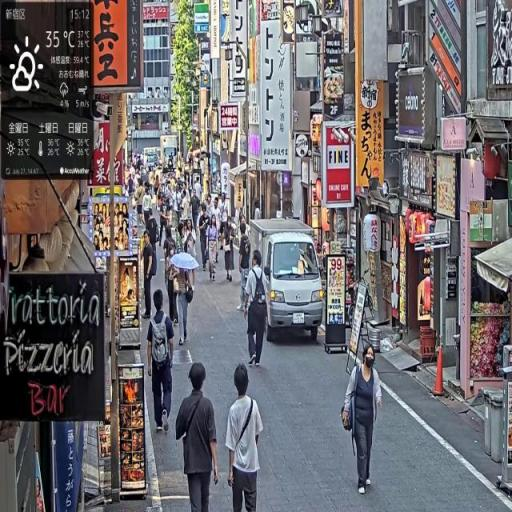person: (176, 362, 221, 512), (343, 345, 384, 496), (226, 362, 264, 512), (148, 287, 177, 436), (244, 249, 271, 370), (172, 257, 197, 348), (141, 229, 158, 322), (165, 240, 180, 327), (239, 223, 252, 314), (222, 216, 236, 285), (207, 214, 221, 283), (198, 205, 210, 270)
